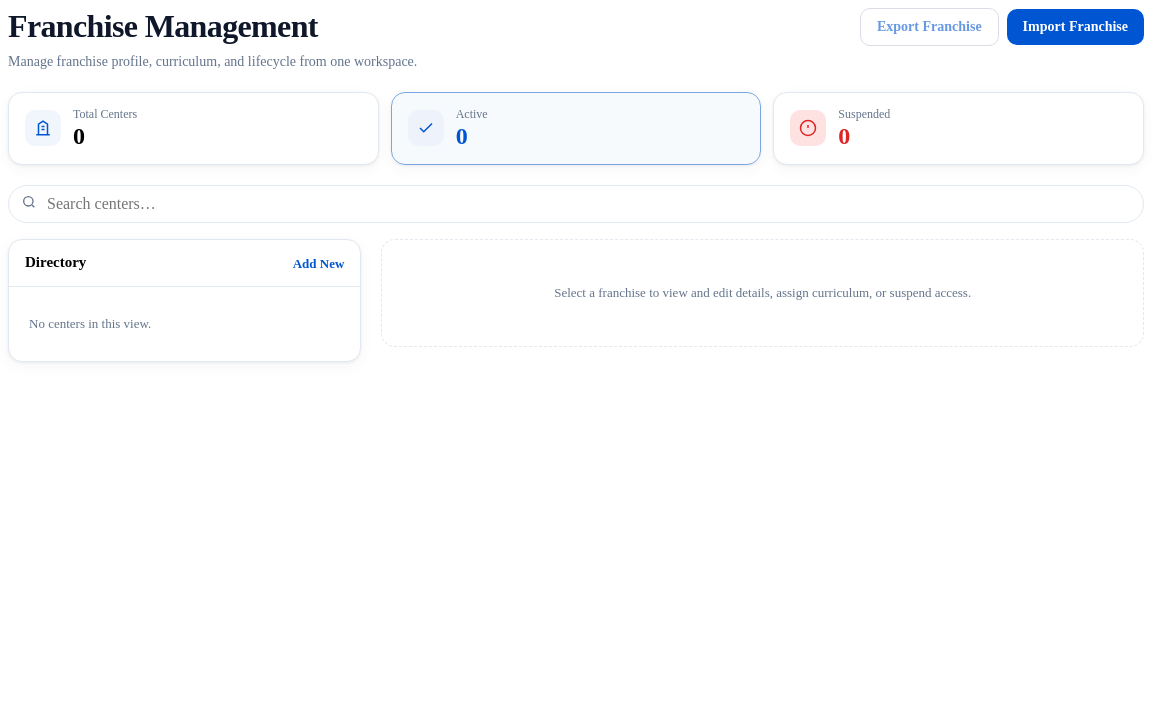
Test: CentersPage › regression_brand_centers_shows_franchise_csv_import
The width and height of the screenshot is (1152, 720).
Click the button "Import Franchise" at (1075, 27), box x1=1007 y1=9 x2=1144 y2=45
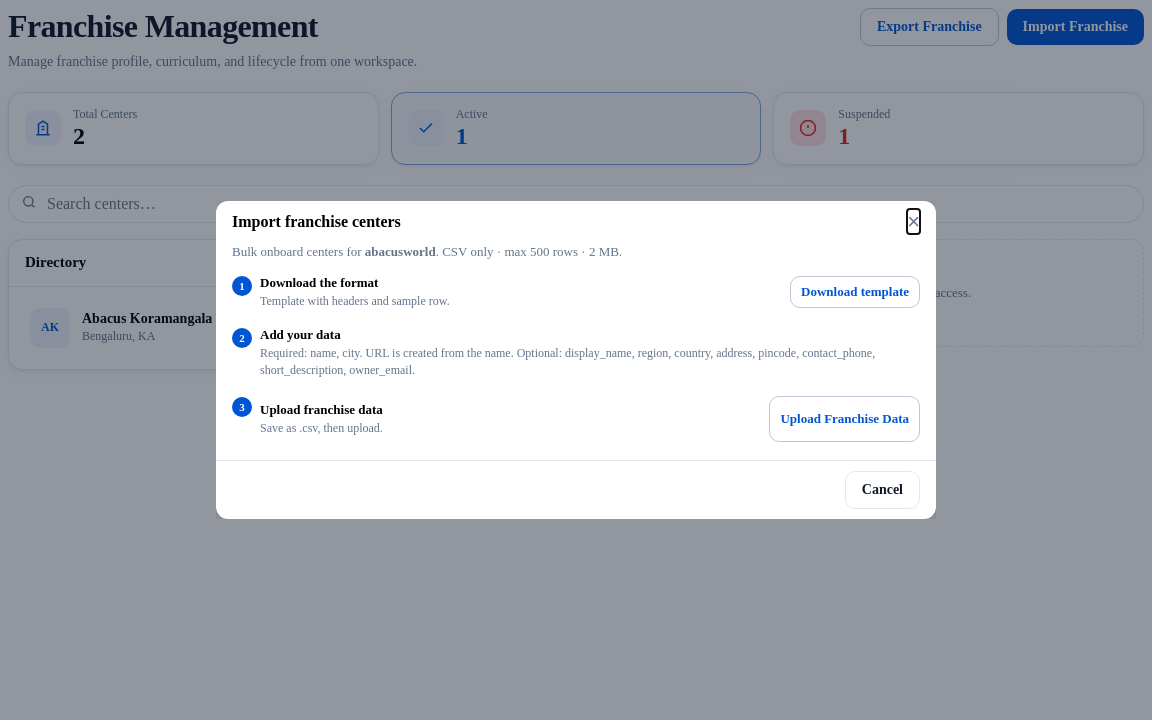
expect the heading "Import franchise centers" is shown: met, box x1=232 y1=213 x2=401 y2=231
